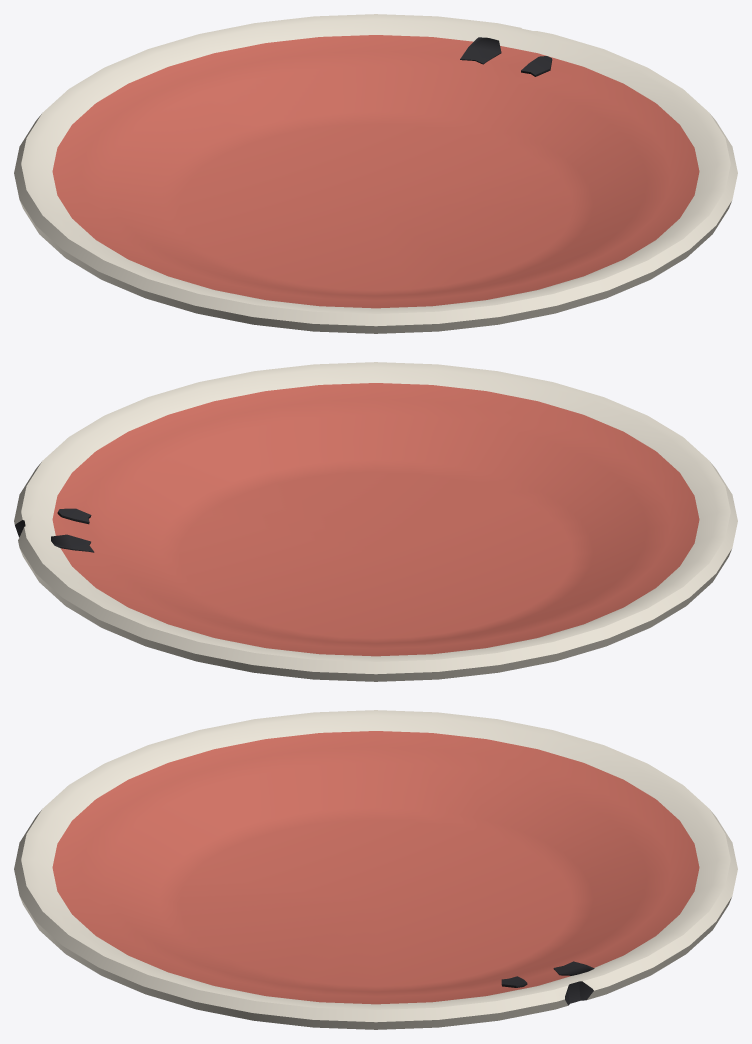
The model's file is junk_plate.glb.
The picture shows the model from 3 angles, top to bottom: view 1: azimuth 30°, elevation 25°; view 2: azimuth 150°, elevation 25°; view 3: azimuth 270°, elevation 25°; orthographic projection.
Parts seen in each view (by area): view 1: PART; view 2: PART; view 3: PART.
Boxes of the visible parts, box(x1,y1,x2,y2) form: PART: box(14, 14, 737, 333); PART: box(14, 362, 737, 681); PART: box(14, 710, 737, 1029).
Bounding box in the file's own units: 0.2428 × 0.0232 × 0.2428.
